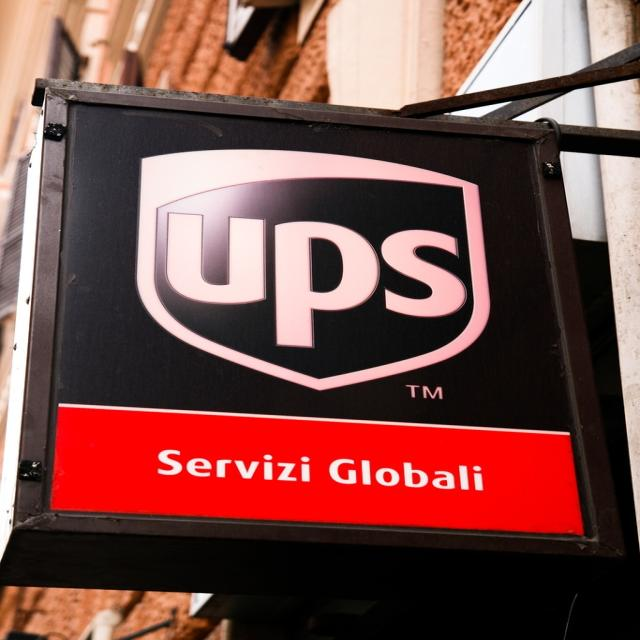ups: (136, 149, 492, 391)
